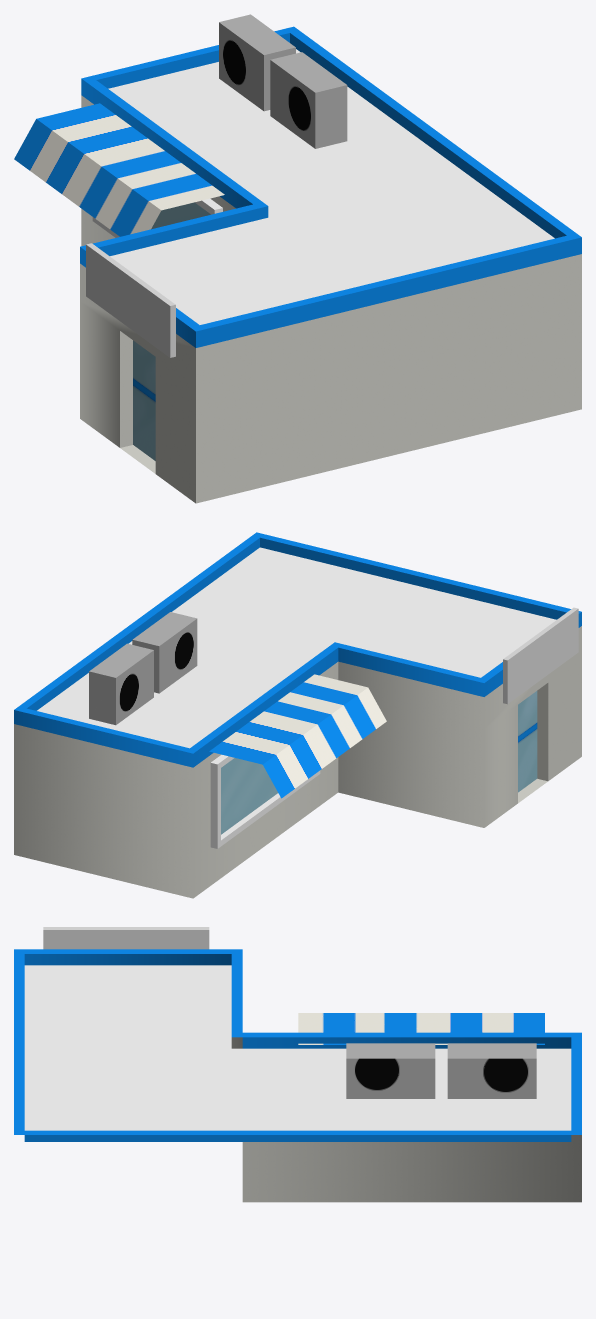
The model's file is Toymarket.fbx.
The picture shows the model from 3 angles, top to bottom: view 1: azimuth 30°, elevation 25°; view 2: azimuth 150°, elevation 25°; view 3: azimuth 270°, elevation 25°; orthographic projection. The views are drawn at different scales.
Parts seen in each view (by area): view 1: Box002, Box003; view 2: Box002, Box003; view 3: Box002, Box003.
Boxes of the visible parts, <box> form: Box002: <box>14,14,581,503</box>; Box003: <box>86,243,175,357</box>; Box002: <box>14,532,581,898</box>; Box003: <box>503,607,578,704</box>; Box002: <box>14,949,581,1202</box>; Box003: <box>43,927,209,949</box>.
Size of the model in its own units: 108 by 56.41 by 136.
